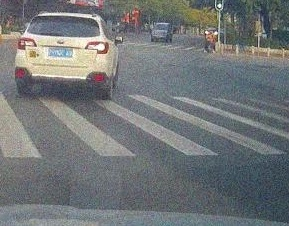L_light: (16, 37, 37, 50)
R_light: (84, 41, 109, 54)
T_light: (61, 16, 71, 19)
day-no: (14, 10, 111, 100)
